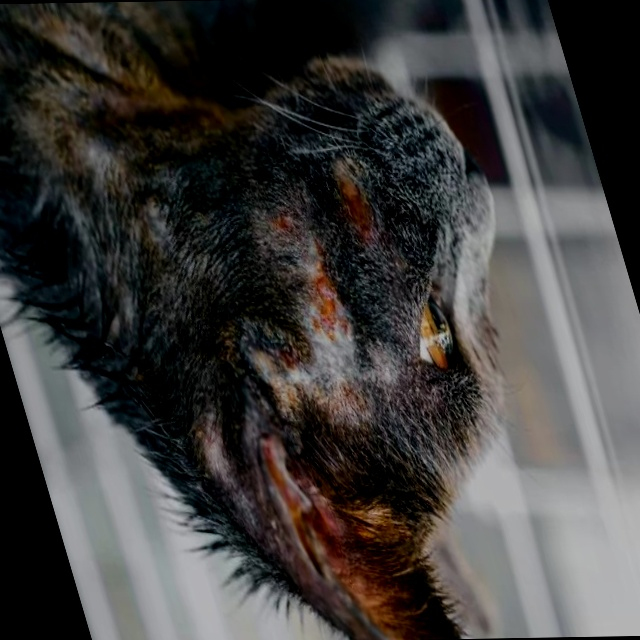ringworm: (289, 251, 372, 382), (240, 340, 317, 393), (330, 183, 379, 244), (267, 214, 303, 243)
